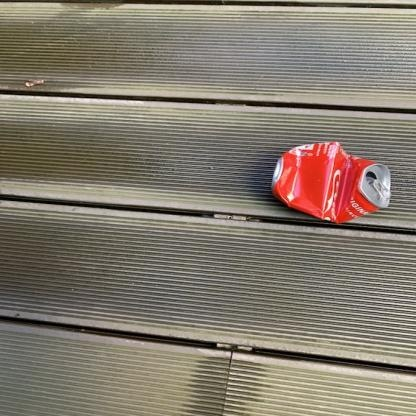trash: (272, 142, 390, 222)
